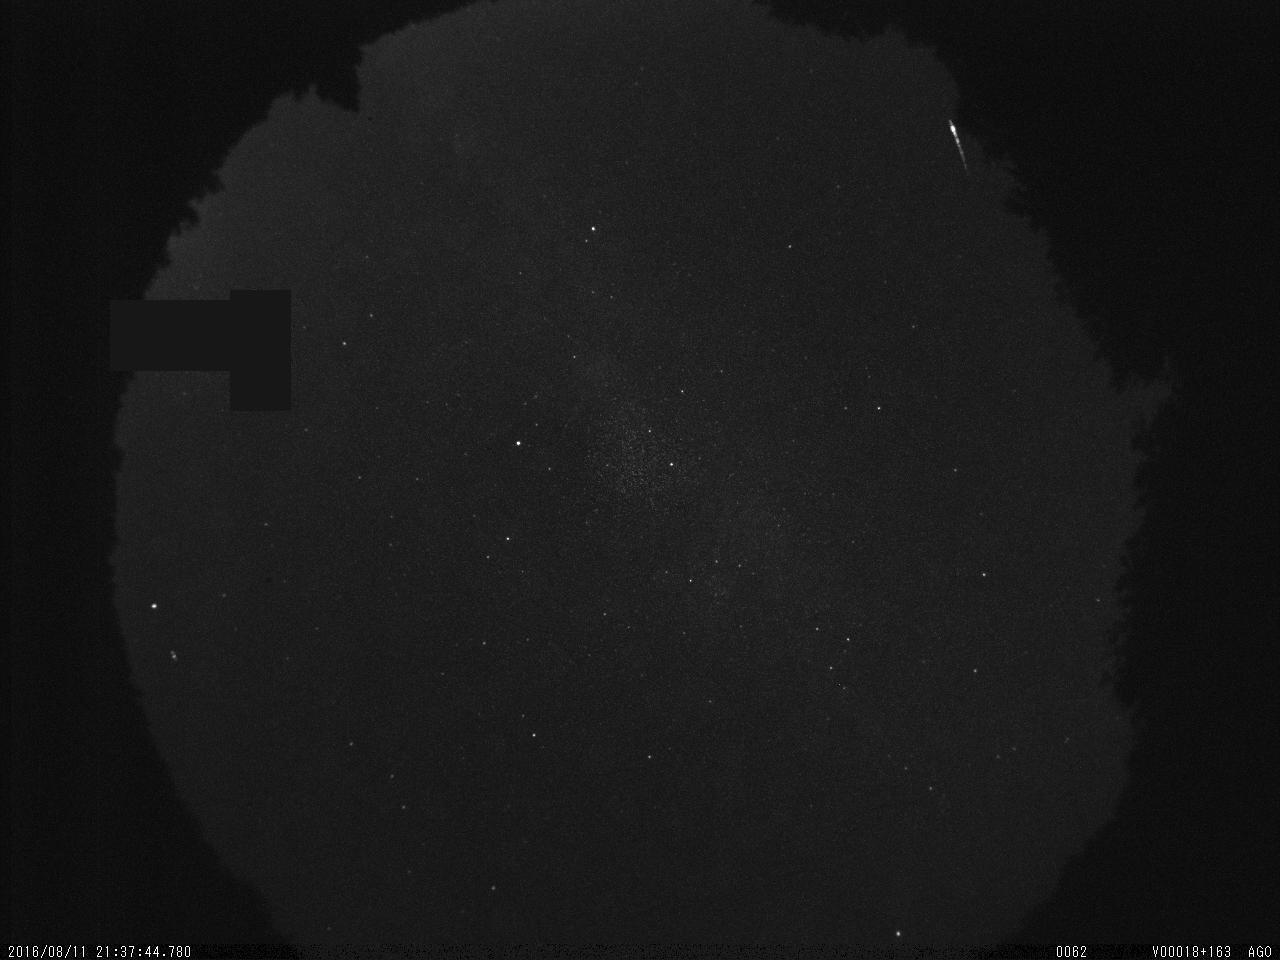Meteor: (945, 113, 970, 175)
